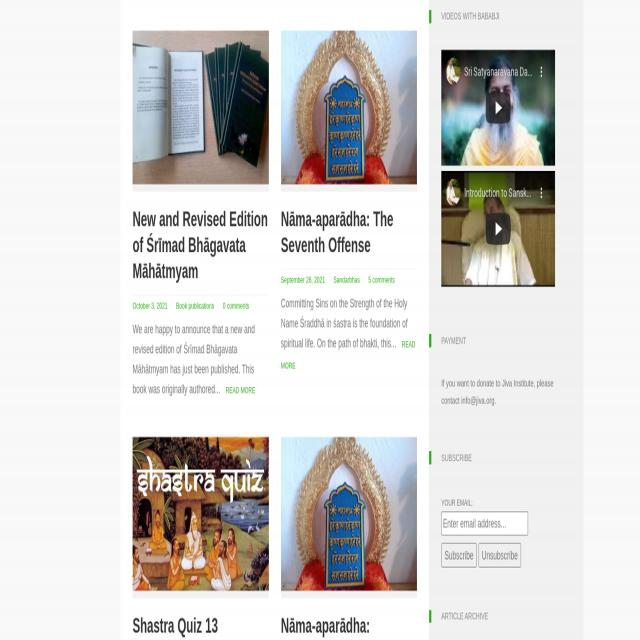button: (132, 30, 268, 184), (281, 30, 417, 184), (132, 438, 268, 591), (281, 438, 417, 590)
field: (442, 512, 528, 536), (479, 543, 521, 568), (441, 543, 477, 568)
